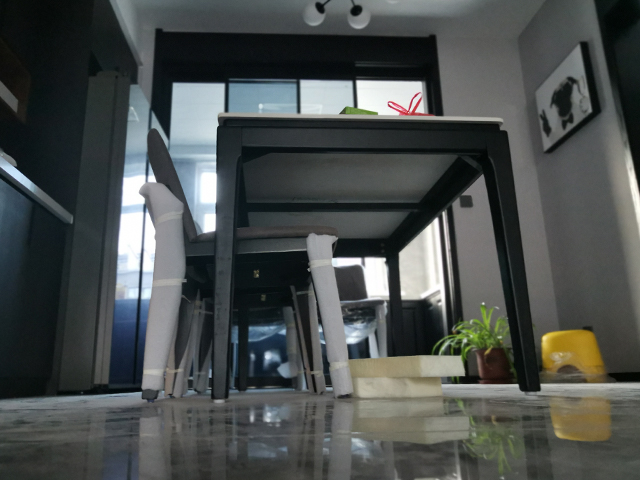cabinet: (1, 155, 76, 402)
stool: (138, 128, 355, 405), (539, 328, 607, 386)
table: (210, 110, 543, 406)
